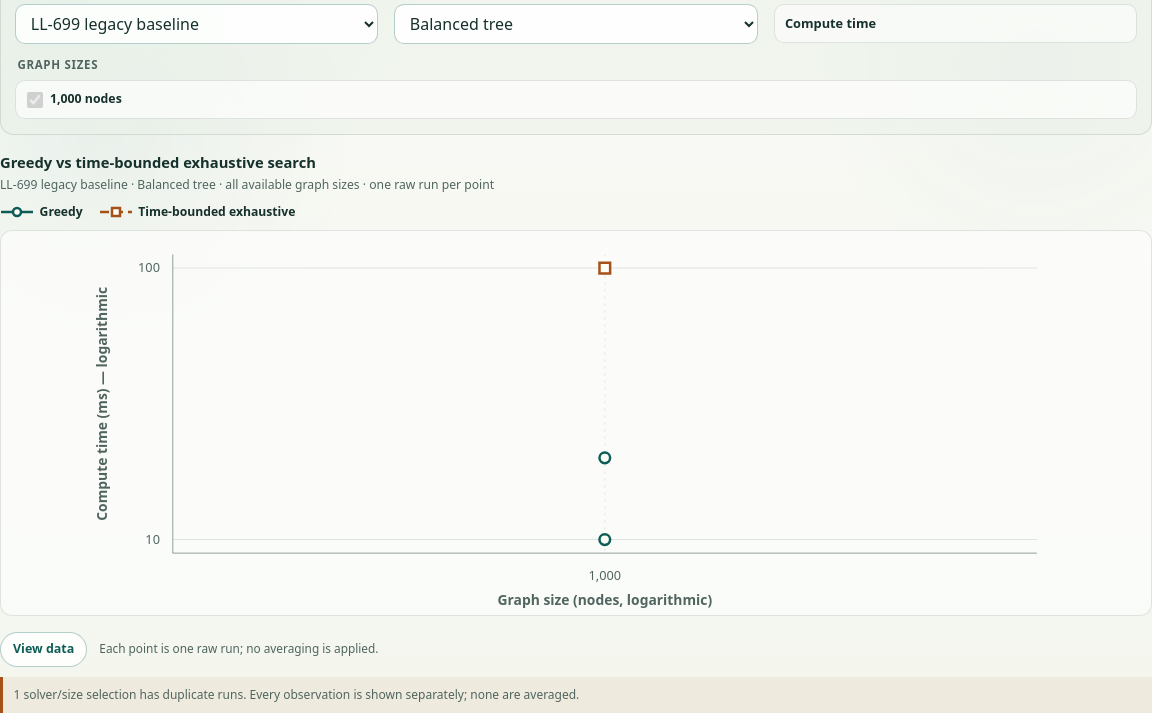
Test: InsightsLabTrends › surfaces duplicate solver observations without averaging them
(page scrolled)
Expected: the message shows "1 solver/size selection has duplicate runs", [0,677,1151,712]
Click the button "View data". click: (44, 649)
box: [0,632,87,667]
(page scrolled)
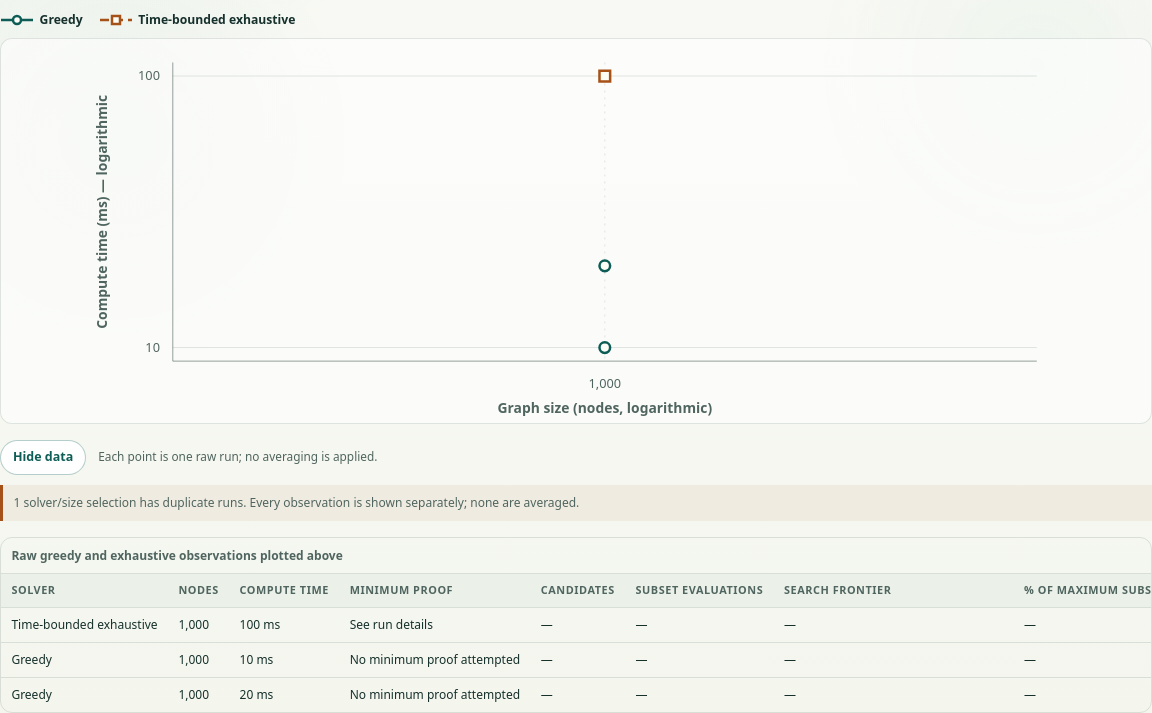
Now the number of rows is 4, box [1,574,1151,607]; [1,607,1151,642]; [1,642,1151,677]; [1,677,1151,712]
